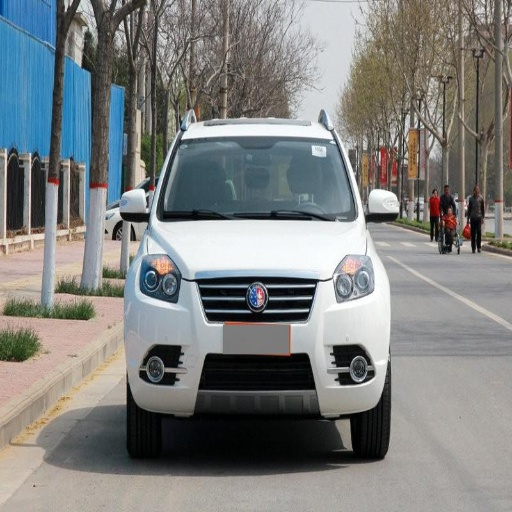front_bumper: (127, 271, 388, 419)
front_right_light: (139, 249, 178, 301)
hood: (151, 219, 365, 279)
